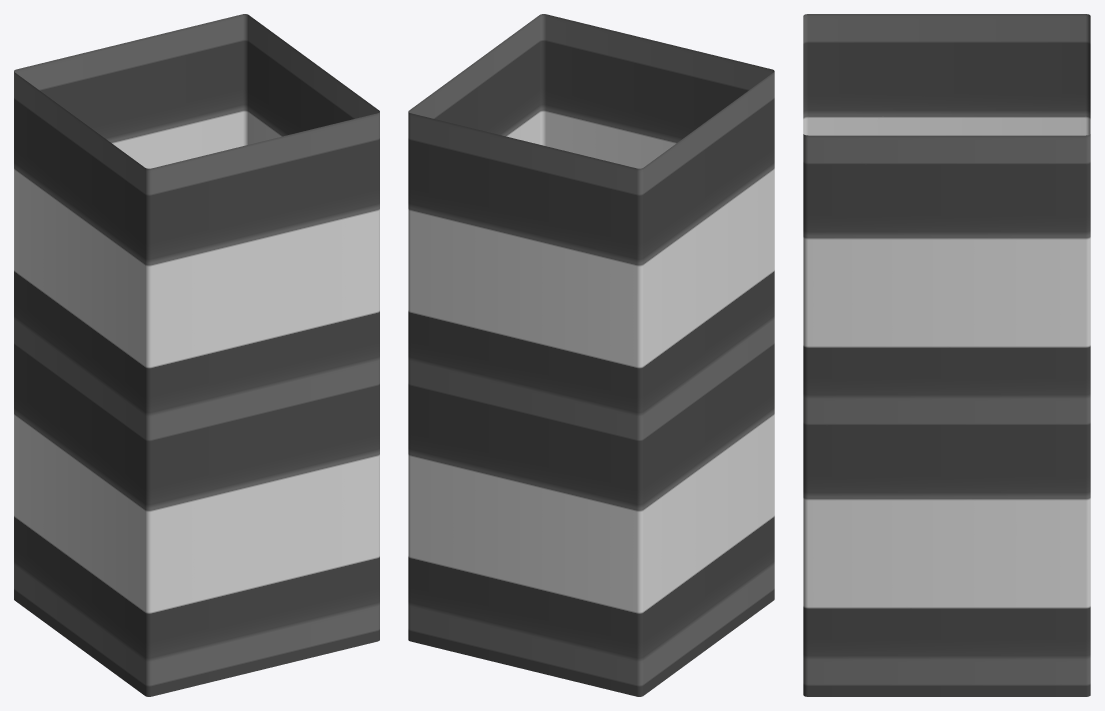
File: zhufangkuang.FBX
3 renders of one model, left to right at view 1: azimuth 30°, elevation 25°; view 2: azimuth 150°, elevation 25°; view 3: azimuth 270°, elevation 25°, orthographic. The views are drawn at different scales.
Visible parts, largest first — view 1: zhufangkuang; view 2: zhufangkuang; view 3: zhufangkuang.
Part boxes in pixels (x1,y1,x2,y2): zhufangkuang: [14, 14, 379, 696]; zhufangkuang: [408, 14, 774, 696]; zhufangkuang: [803, 14, 1090, 696].
Bounding box in the file's own units: 20000 × 43096 × 20000.
